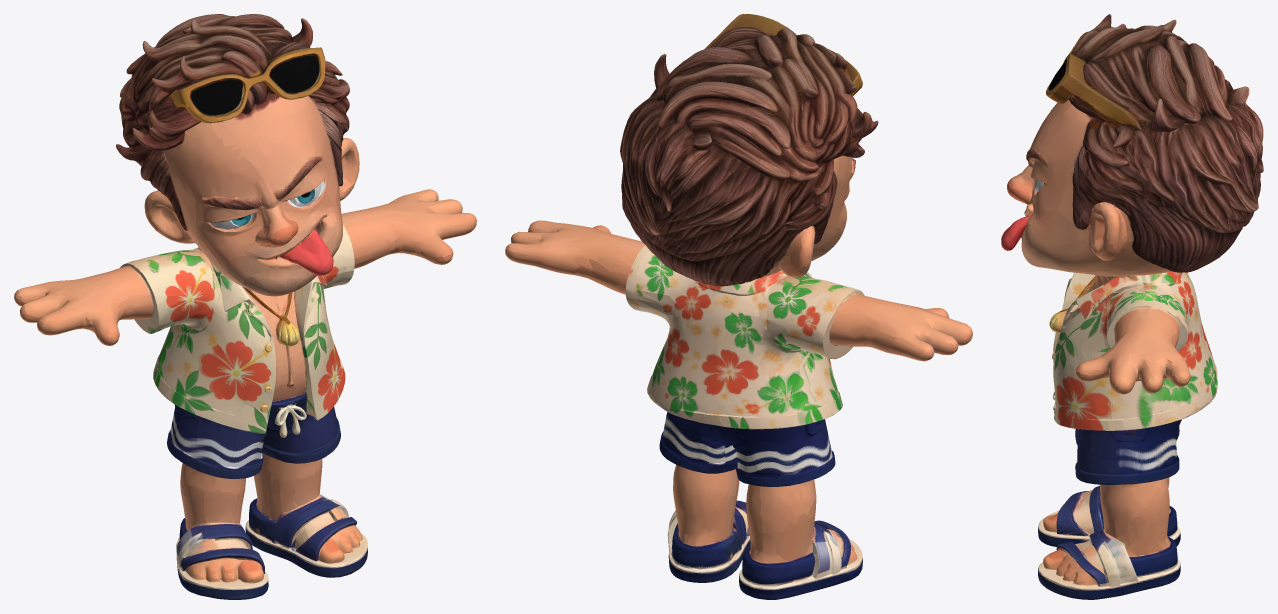
The model's file is ray_src.glb.
3 views of the same model, side by side, from view 1: azimuth 30°, elevation 25°; view 2: azimuth 150°, elevation 25°; view 3: azimuth 270°, elevation 25° (orthographic). The views are drawn at different scales.
Parts seen in each view (by area): view 1: Mesh_0; view 2: Mesh_0; view 3: Mesh_0.
Part boxes in pixels (x1,y1,x2,y2): Mesh_0: (14, 14, 476, 599); Mesh_0: (505, 14, 972, 599); Mesh_0: (1001, 14, 1263, 599).
Size of the model in its own units: 1.64 by 1.9 by 0.877.
1 material, 1 textured.
